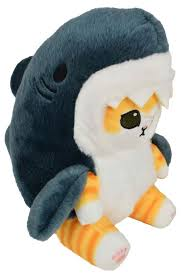cat_shark: (5, 7, 176, 272)
